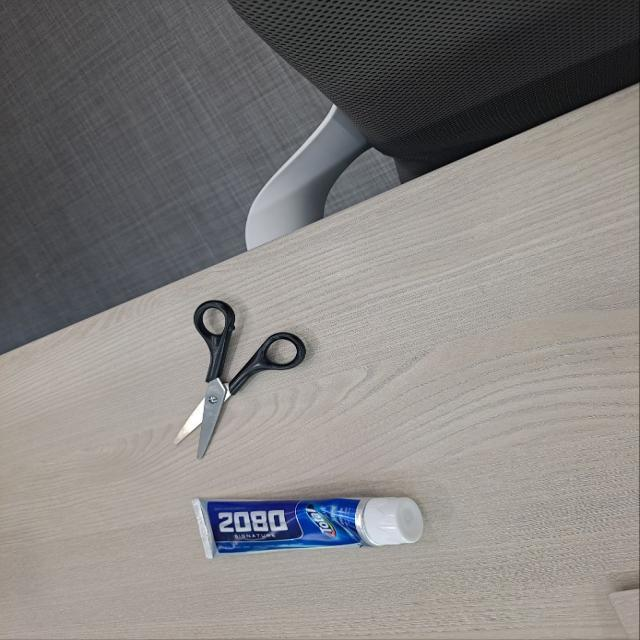scissors: (176, 298, 311, 462)
toothpaste: (185, 491, 427, 563)
